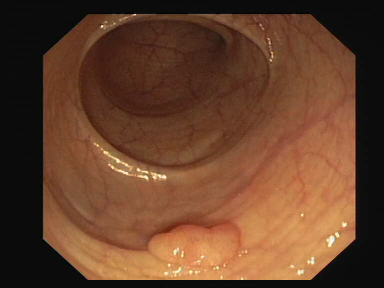polyp: (123, 197, 267, 273)
